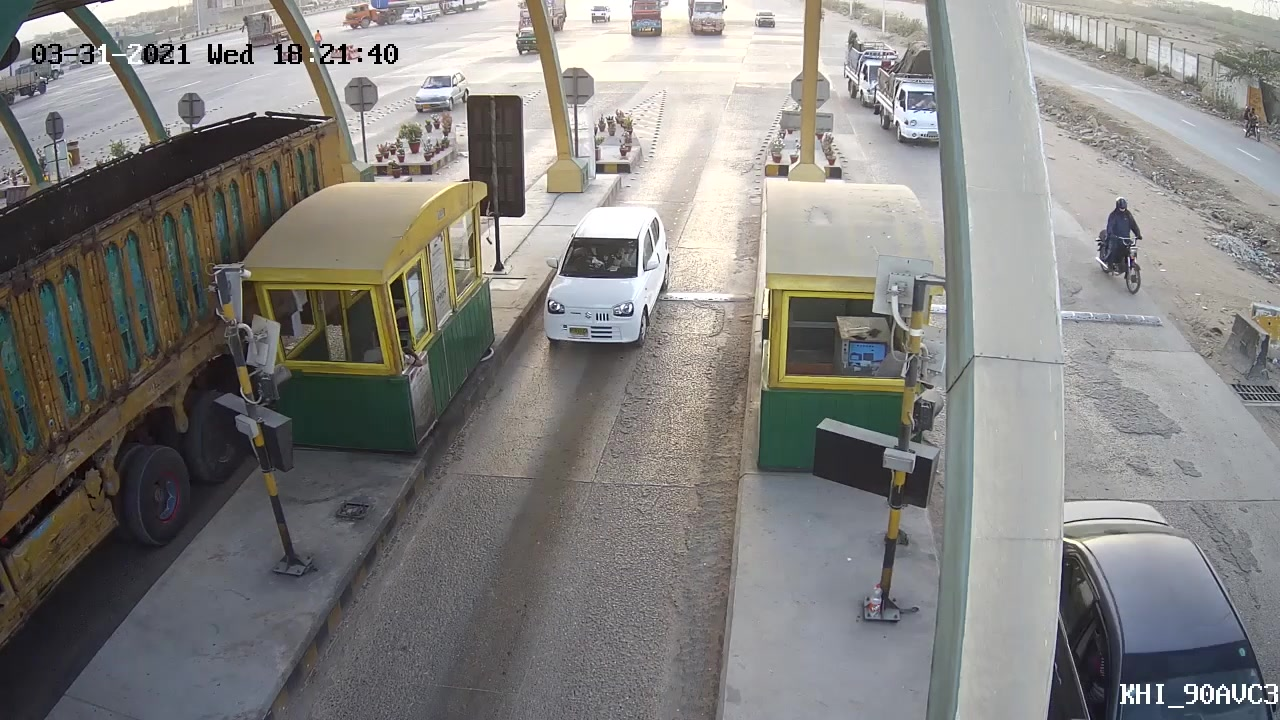F1: (540, 202, 676, 347)
